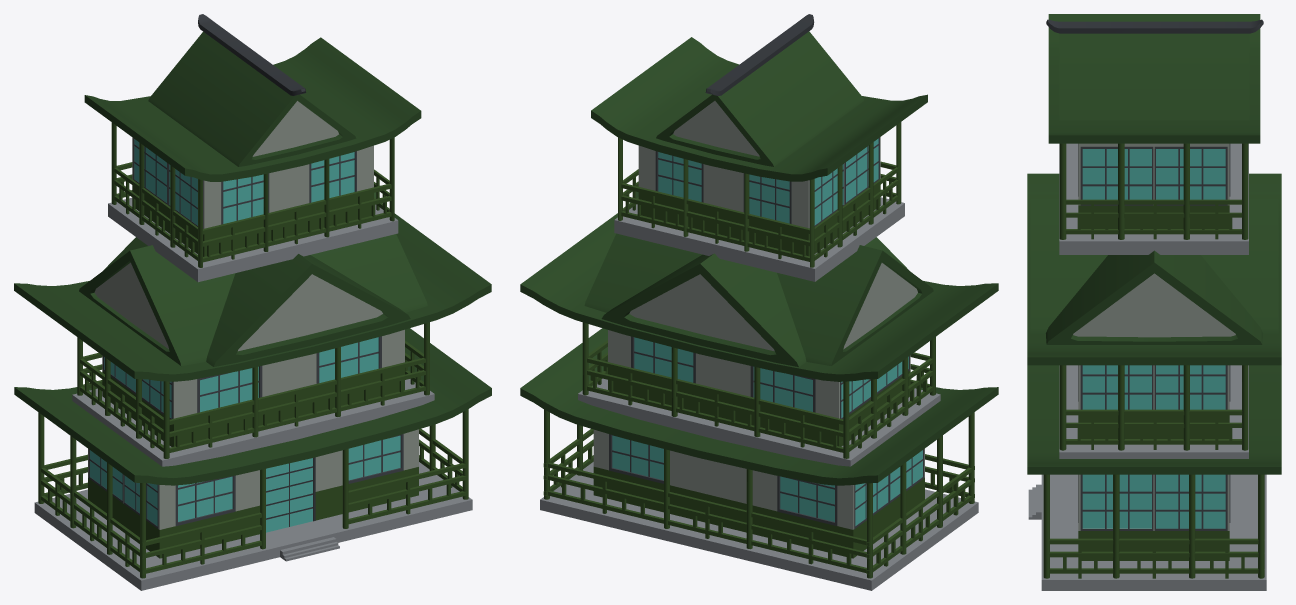
The model's file is Building_5.fbx.
The picture shows the model from 3 angles, left to right: view 1: azimuth 30°, elevation 25°; view 2: azimuth 150°, elevation 25°; view 3: azimuth 270°, elevation 25°; orthographic projection. The views are drawn at different scales.
Visible parts, largest first — view 1: Building_5; view 2: Building_5; view 3: Building_5.
Part boxes in pixels (<box>): Building_5: <box>14,14,491,590</box>; Building_5: <box>520,14,998,590</box>; Building_5: <box>1027,14,1281,590</box>.
Bounding box in the file's own units: 628 × 773 × 367.
